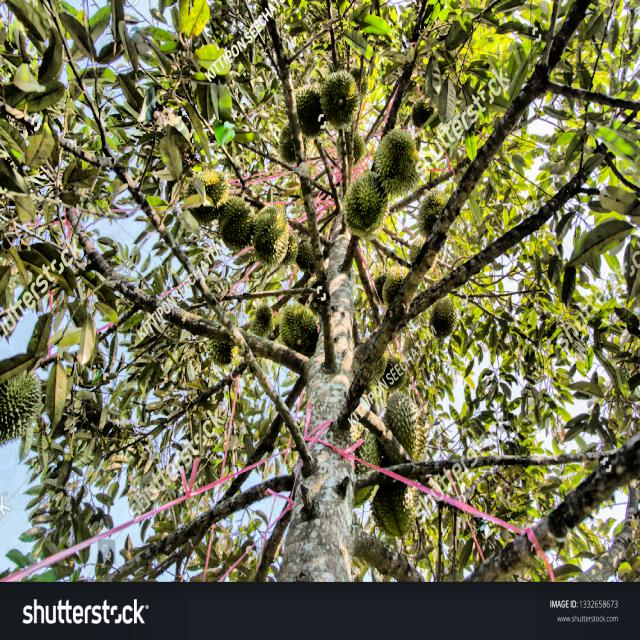arvore: (277, 122, 379, 593)
